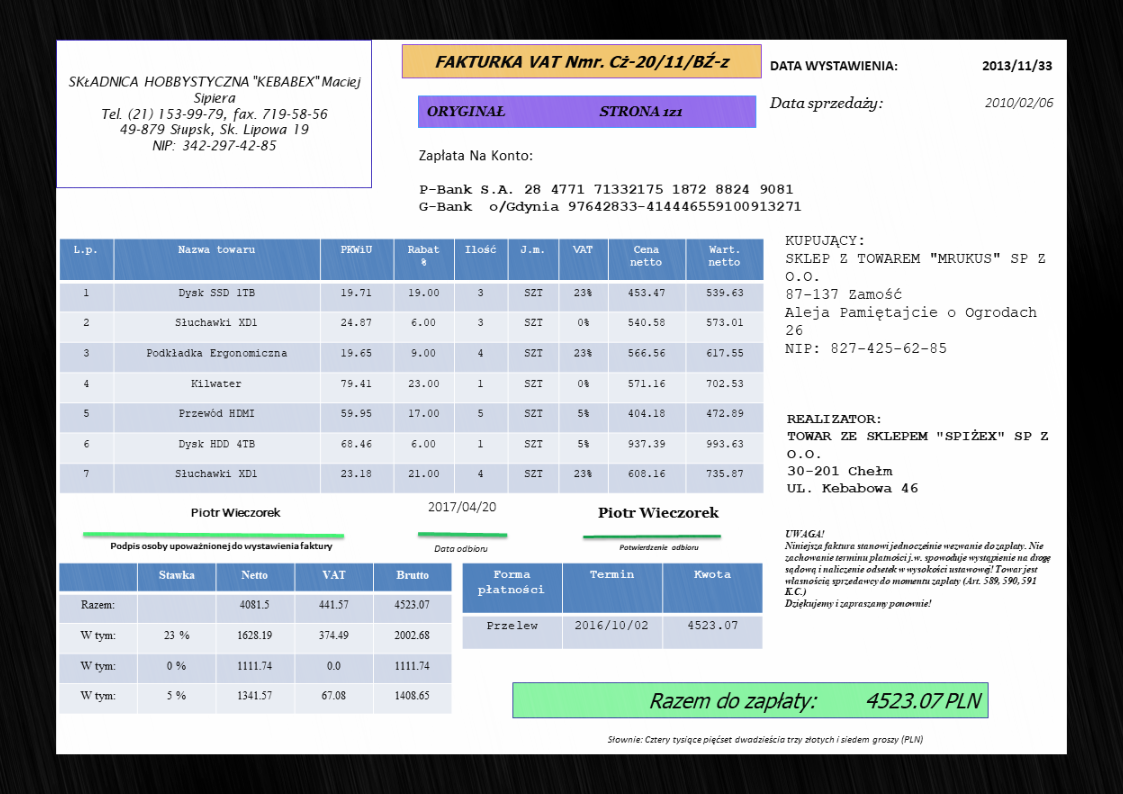Table: (57, 236, 765, 495), (57, 561, 453, 716), (460, 560, 764, 650)
TextBox: (782, 230, 1051, 359), (65, 71, 365, 156), (781, 525, 1056, 613), (784, 410, 1052, 498), (416, 180, 806, 217), (646, 688, 985, 712), (432, 49, 736, 74), (424, 100, 684, 120), (603, 732, 926, 746), (107, 538, 334, 554), (767, 91, 888, 114), (416, 146, 537, 165), (768, 57, 899, 74), (595, 504, 720, 520), (186, 504, 286, 520), (425, 498, 497, 517), (979, 58, 1057, 75), (980, 95, 1057, 111), (617, 541, 700, 554), (431, 541, 489, 555)
